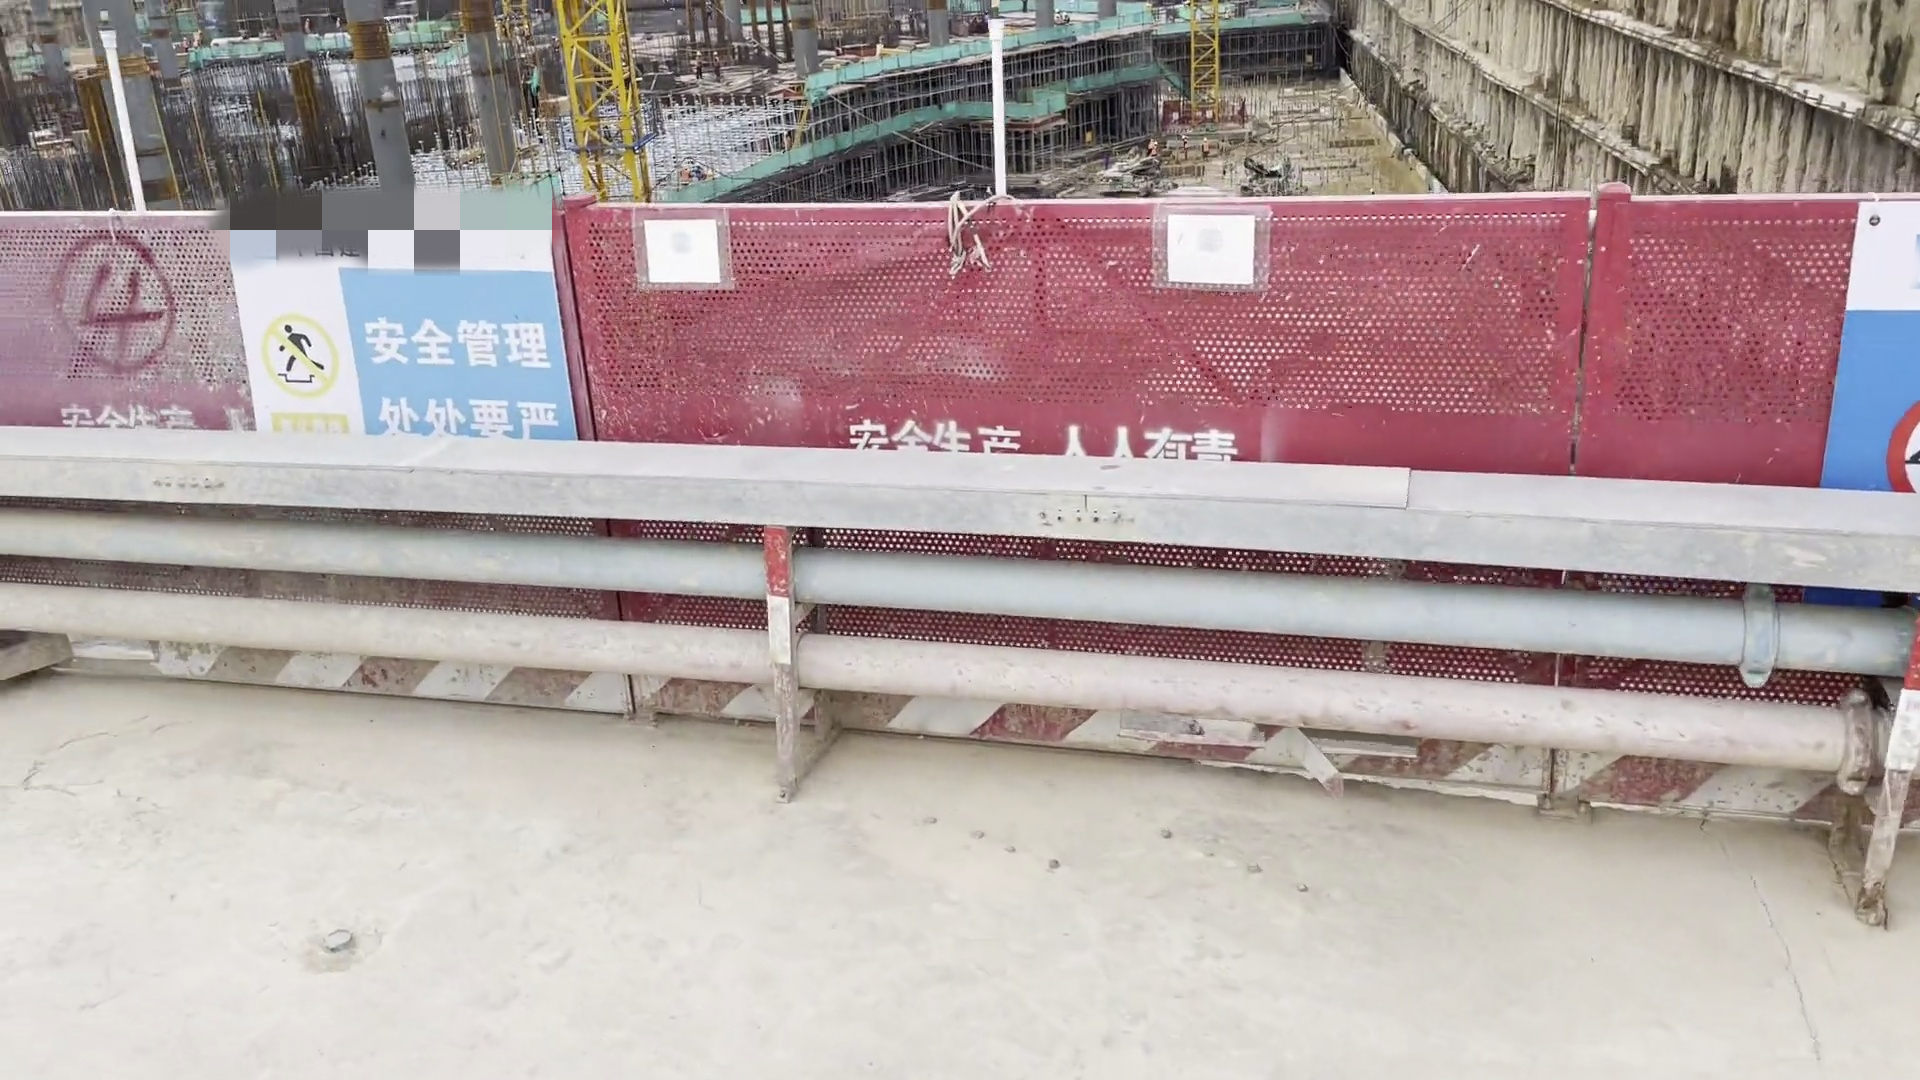fence: (1, 178, 1920, 500)
helmet: (1153, 140, 1161, 148), (711, 49, 720, 56), (697, 49, 703, 58), (1181, 134, 1189, 140), (1203, 137, 1209, 142)
person: (701, 41, 728, 91), (1140, 129, 1165, 172), (1173, 126, 1193, 168), (1200, 122, 1216, 173), (690, 35, 702, 92)
slogan: (213, 201, 610, 449), (1821, 191, 1920, 540), (1126, 187, 1298, 315), (623, 200, 753, 305)
vest: (711, 58, 722, 70), (694, 57, 703, 70), (1201, 142, 1210, 154), (1184, 141, 1191, 151), (1151, 146, 1157, 156)
